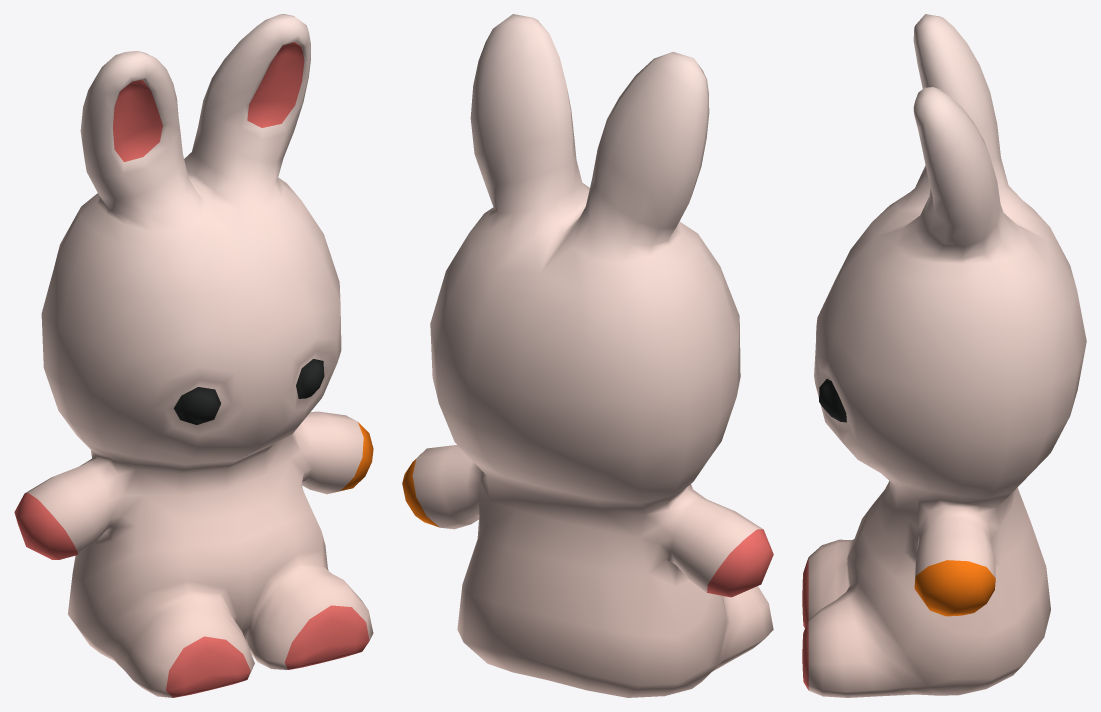
File: Toy_Rabbit.fbx
3 views of the same model, side by side, from view 1: azimuth 30°, elevation 25°; view 2: azimuth 150°, elevation 25°; view 3: azimuth 270°, elevation 25° (orthographic). The views are drawn at different scales.
Parts seen in each view (by area): view 1: Toy_Rabbit; view 2: Toy_Rabbit; view 3: Toy_Rabbit.
Part boxes in pixels (x1,y1,x2,y2): Toy_Rabbit: [14, 14, 373, 697]; Toy_Rabbit: [402, 14, 773, 697]; Toy_Rabbit: [802, 14, 1086, 697].
Size of the model in its own units: 0.1779 by 0.2949 by 0.1281.
